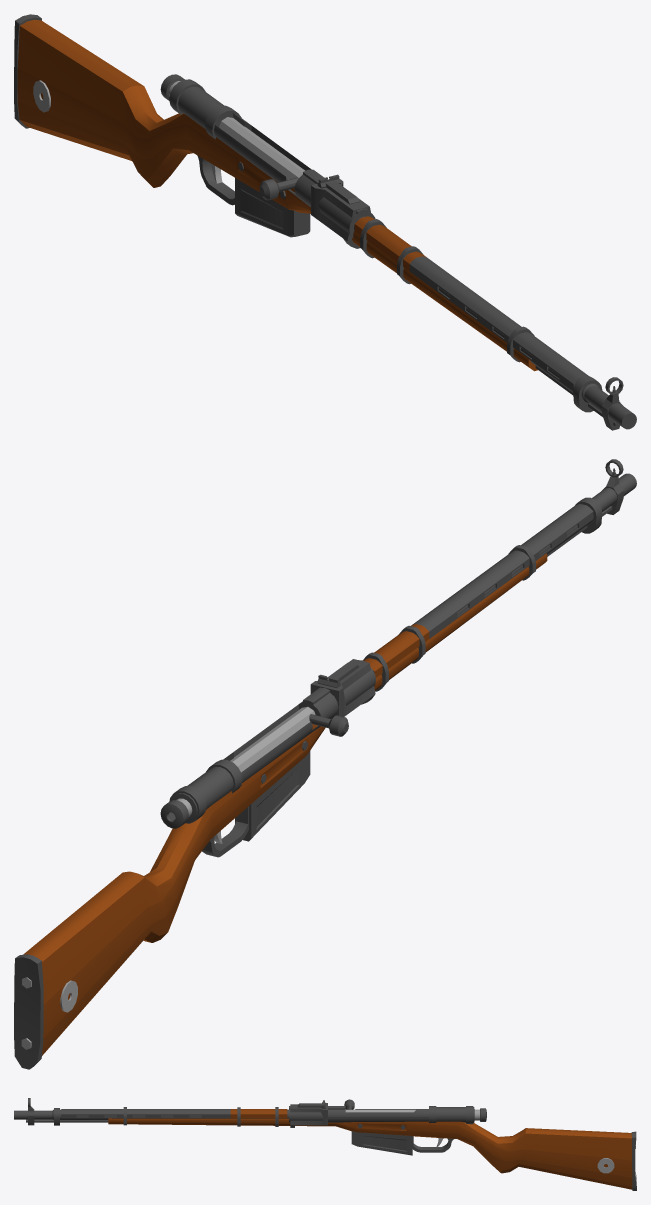
File: BoltAction (1).fbx
The picture shows the model from 3 angles, top to bottom: view 1: azimuth 30°, elevation 25°; view 2: azimuth 150°, elevation 25°; view 3: azimuth 270°, elevation 25°; orthographic projection. The views are drawn at different scales.
Visible parts, largest first — view 1: Rupert Rifle.005; view 2: Rupert Rifle.005; view 3: Rupert Rifle.005.
Boxes of the visible parts, x1,y1,x2,y2 form: Rupert Rifle.005: (14,14,636,430); Rupert Rifle.005: (14,459,636,1069); Rupert Rifle.005: (14,1098,636,1190).
Bounding box in the file's own units: 6.91 × 20.34 × 125.
